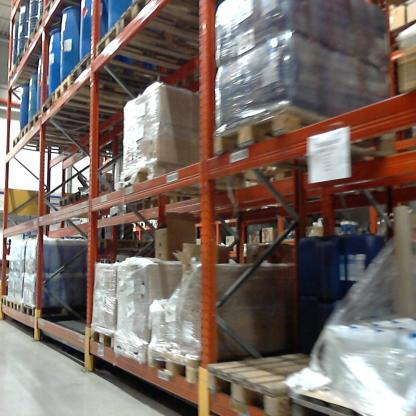pallet: (210, 103, 398, 193), (204, 345, 320, 415), (92, 28, 223, 78), (52, 73, 146, 121), (69, 53, 183, 92), (119, 3, 260, 31), (122, 166, 232, 199), (9, 132, 122, 164), (39, 92, 135, 126), (27, 113, 124, 142), (148, 343, 211, 385), (297, 380, 377, 412), (20, 125, 91, 151), (17, 47, 69, 81), (22, 301, 86, 325), (30, 13, 75, 43), (22, 38, 69, 64), (90, 237, 159, 254), (8, 64, 54, 86), (110, 336, 147, 362), (42, 1, 87, 22), (77, 187, 117, 206), (91, 326, 115, 352), (126, 199, 152, 218), (386, 208, 412, 223), (160, 188, 176, 207), (66, 190, 83, 206), (57, 192, 74, 207), (14, 299, 28, 312), (6, 296, 16, 311), (1, 295, 11, 308)
